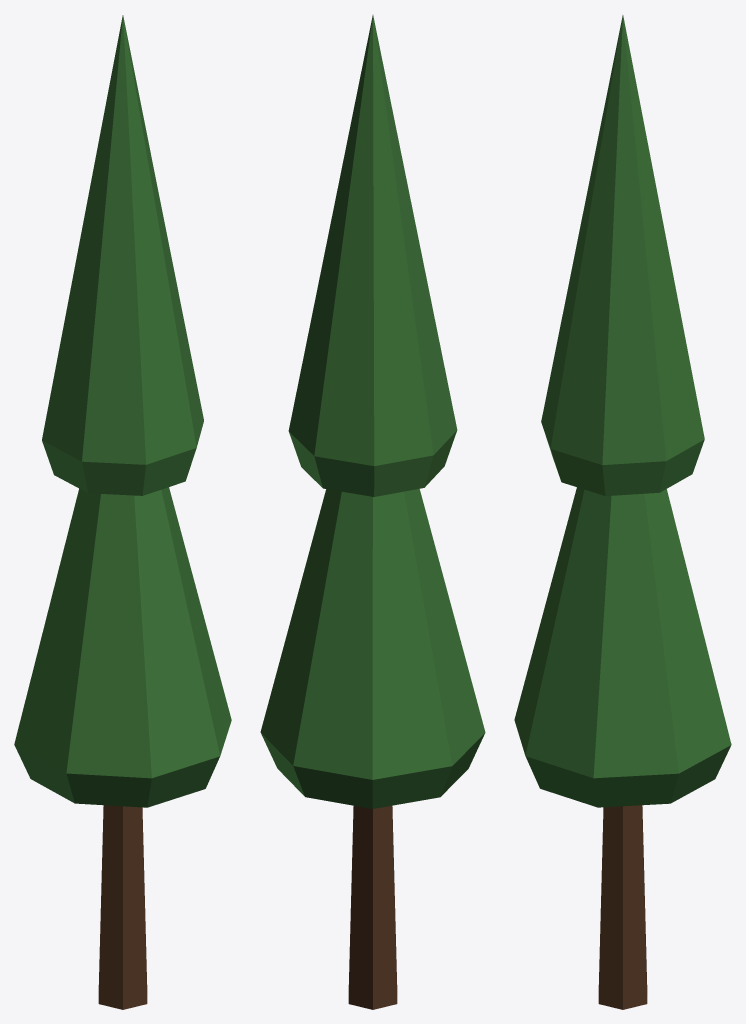
Rendered from tree_pineTallB.glb.
3 views of the same model, side by side, from view 1: azimuth 30°, elevation 25°; view 2: azimuth 150°, elevation 25°; view 3: azimuth 270°, elevation 25° (orthographic).
Parts seen in each view (by area): view 1: tree_pineTallB; view 2: tree_pineTallB; view 3: tree_pineTallB.
Part boxes in pixels (x1,y1,x2,y2): tree_pineTallB: (14,15,231,1009); tree_pineTallB: (260,15,485,1009); tree_pineTallB: (514,15,731,1009).
Bounding box in the file's own units: 0.3861 × 1.93 × 0.3861.
Materials: 1 (1 with a texture image).
